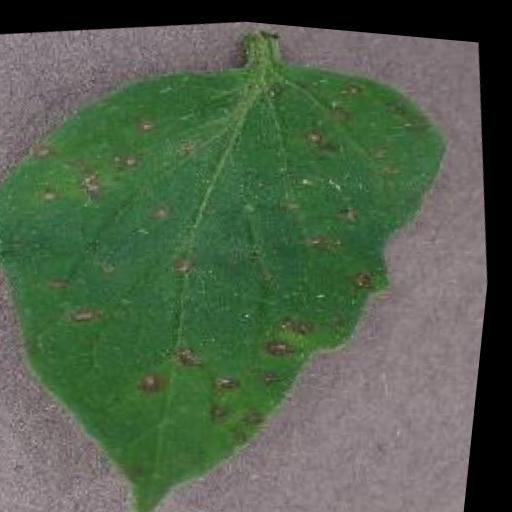Septoria: (0, 15, 499, 512)
